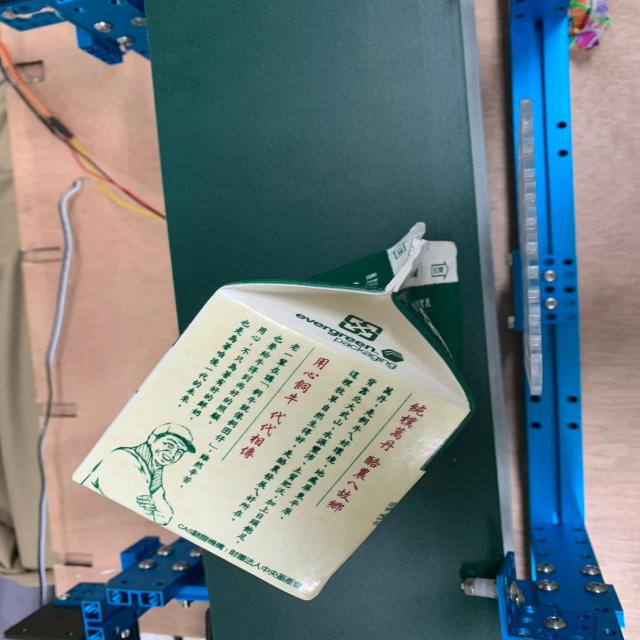non_white_jug: (26, 209, 503, 627)
